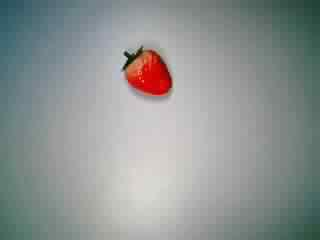strawberry: (114, 41, 180, 103)
